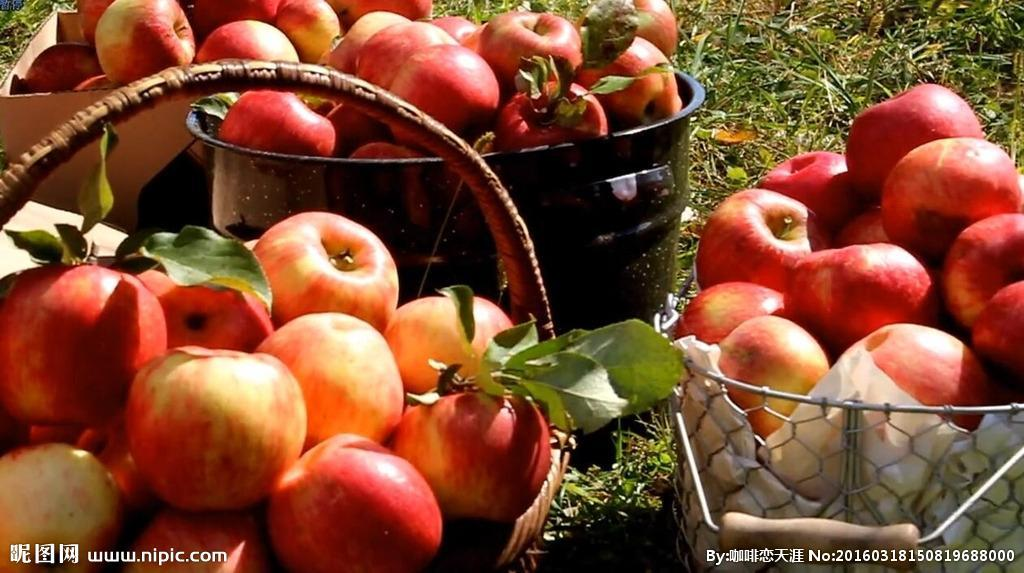apple: (124, 344, 307, 516), (1, 263, 167, 444), (264, 438, 444, 573), (386, 390, 542, 527), (256, 312, 407, 453), (841, 82, 992, 201), (251, 214, 399, 335), (11, 1, 198, 94), (876, 143, 1021, 257), (383, 289, 527, 402), (857, 325, 1012, 426), (720, 318, 828, 432), (696, 188, 824, 283), (387, 44, 499, 147), (812, 243, 937, 334), (940, 212, 1023, 333), (147, 280, 273, 356), (94, 1, 196, 87), (479, 10, 581, 81), (969, 282, 1024, 382), (589, 71, 681, 129), (183, 1, 304, 40), (17, 42, 107, 94), (199, 21, 302, 65), (628, 2, 677, 58)
